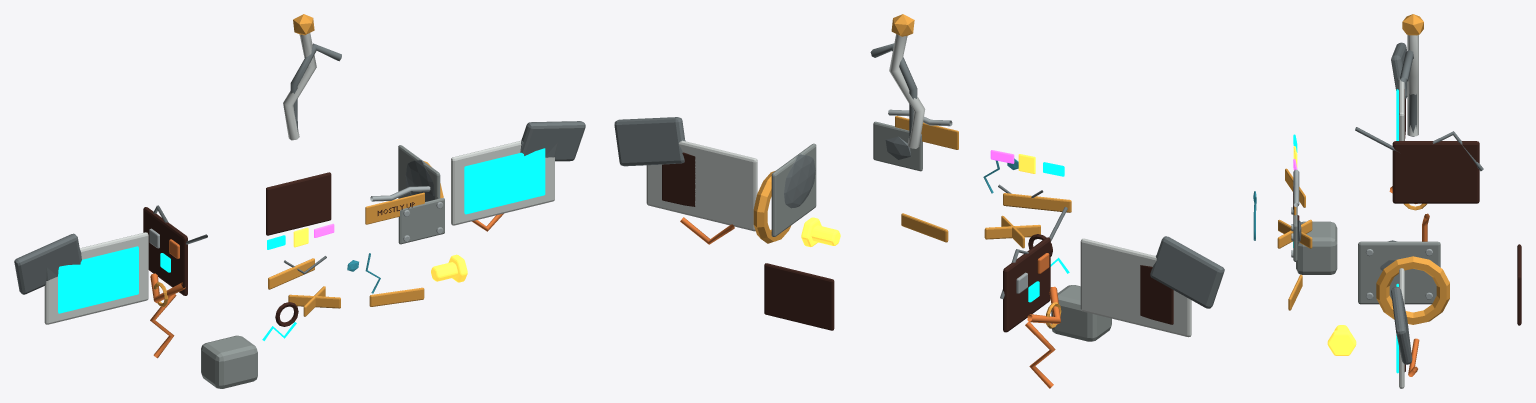
File: cosmoforge_damage_repair_kit.glb
The picture shows the model from 3 angles, left to right: view 1: azimuth 30°, elevation 25°; view 2: azimuth 150°, elevation 25°; view 3: azimuth 270°, elevation 25°; orthographic projection. The views are drawn at different scales.
Visible parts, largest first — view 1: Repair_ReplacementPanel_R_Cell, Repair_ReplacementPanel_L_Cell, Damage_HeatStain, Repair_ReplacementPanel_R, Repair_ReplacementPanel_L, Damage_OpenAccessPanel, Repair_ReinforcedCorner, Damage_BentPanel_L, Damage_BentPanel_R, Repair_PatchPlate_Small, Repair_MismatchedAntenna, Veteran_WarningSticker (+6 smaller); view 2: Repair_ReplacementPanel_L, Repair_ReplacementPanel_R, Damage_HeatStain, Damage_OpenAccessPanel, Damage_BentPanel_L, Damage_BentPanel_R, Repair_ReinforcedCorner, Repair_PatchPlate_Large, Damage_ScorchedPanel_R, Damage_ScorchedPanel_L, Repair_PatchPlate_Small, Repair_MismatchedAntenna (+7 smaller); view 3: Damage_OpenAccessPanel, Repair_PatchPlate_Large, Repair_EmergencyClamp, Repair_ReinforcedCorner, Damage_BentPanel_R, Repair_MismatchedAntenna, Veteran_LuckyBolt_Head, Damage_BentAntenna, Damage_BentPanel_L, Damage_Scratches_Heavy, Damage_HeatStain, Repair_MismatchedAntenna_Tip (+9 smaller).
Boxes of the visible parts, x1=… form: Repair_ReplacementPanel_R_Cell: x1=464, y1=148, x2=545, y2=214; Repair_ReplacementPanel_L_Cell: x1=58, y1=246, x2=138, y2=313; Damage_HeatStain: x1=266, y1=172, x2=331, y2=235; Repair_ReplacementPanel_R: x1=451, y1=140, x2=554, y2=225; Repair_ReplacementPanel_L: x1=44, y1=232, x2=148, y2=324; Damage_OpenAccessPanel: x1=143, y1=207, x2=187, y2=295; Repair_ReinforcedCorner: x1=201, y1=335, x2=257, y2=388; Damage_BentPanel_L: x1=14, y1=233, x2=81, y2=294; Damage_BentPanel_R: x1=521, y1=121, x2=585, y2=161; Repair_PatchPlate_Small: x1=398, y1=198, x2=444, y2=244; Repair_MismatchedAntenna: x1=283, y1=33, x2=316, y2=140; Veteran_WarningSticker: x1=365, y1=192, x2=424, y2=224; Repair_ReplacementPanel_L: x1=1080, y1=238, x2=1191, y2=337; Repair_ReplacementPanel_R: x1=646, y1=140, x2=757, y2=231; Damage_HeatStain: x1=764, y1=263, x2=834, y2=330; Damage_OpenAccessPanel: x1=1003, y1=237, x2=1050, y2=332; Damage_BentPanel_L: x1=1150, y1=236, x2=1224, y2=308; Damage_BentPanel_R: x1=614, y1=117, x2=684, y2=166; Repair_ReinforcedCorner: x1=1051, y1=285, x2=1111, y2=341; Repair_PatchPlate_Large: x1=771, y1=143, x2=816, y2=236; Damage_ScorchedPanel_R: x1=662, y1=152, x2=695, y2=206; Damage_ScorchedPanel_L: x1=1140, y1=265, x2=1173, y2=324; Repair_PatchPlate_Small: x1=873, y1=121, x2=922, y2=171; Repair_MismatchedAntenna: x1=889, y1=34, x2=925, y2=148; Damage_OpenAccessPanel: x1=1392, y1=141, x2=1479, y2=203; Repair_PatchPlate_Large: x1=1358, y1=241, x2=1440, y2=304; Repair_EmergencyClamp: x1=1376, y1=256, x2=1449, y2=324; Repair_ReinforcedCorner: x1=1296, y1=221, x2=1337, y2=274; Damage_BentPanel_R: x1=1391, y1=286, x2=1412, y2=364; Repair_MismatchedAntenna: x1=1407, y1=35, x2=1418, y2=136; Veteran_LuckyBolt_Head: x1=1327, y1=330, x2=1356, y2=355; Damage_BentAntenna: x1=1400, y1=50, x2=1416, y2=136; Damage_BentPanel_L: x1=1391, y1=42, x2=1407, y2=98; Damage_Scratches_Heavy: x1=1355, y1=127, x2=1483, y2=171; Damage_HeatStain: x1=1517, y1=244, x2=1521, y2=325; Repair_MismatchedAntenna_Tip: x1=1402, y1=14, x2=1423, y2=35.
Bounding box in the file's own units: 5.94 × 3.12 × 2.33.
